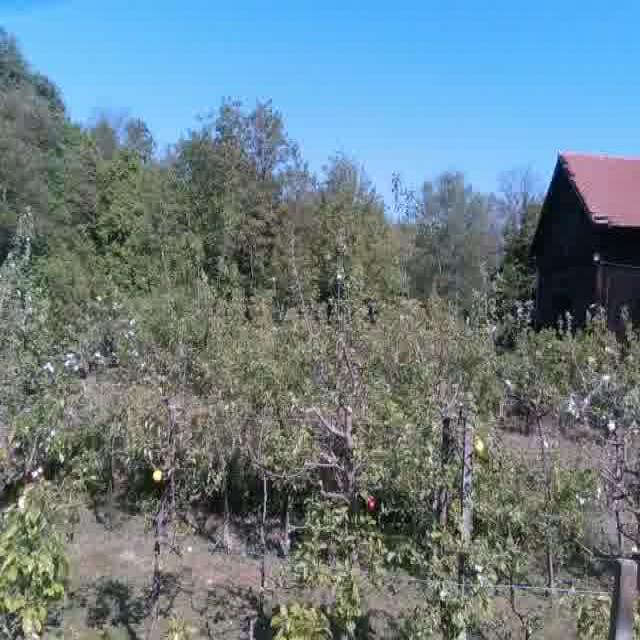red: (362, 492, 383, 512)
yellow: (471, 431, 491, 457), (150, 465, 166, 483)
